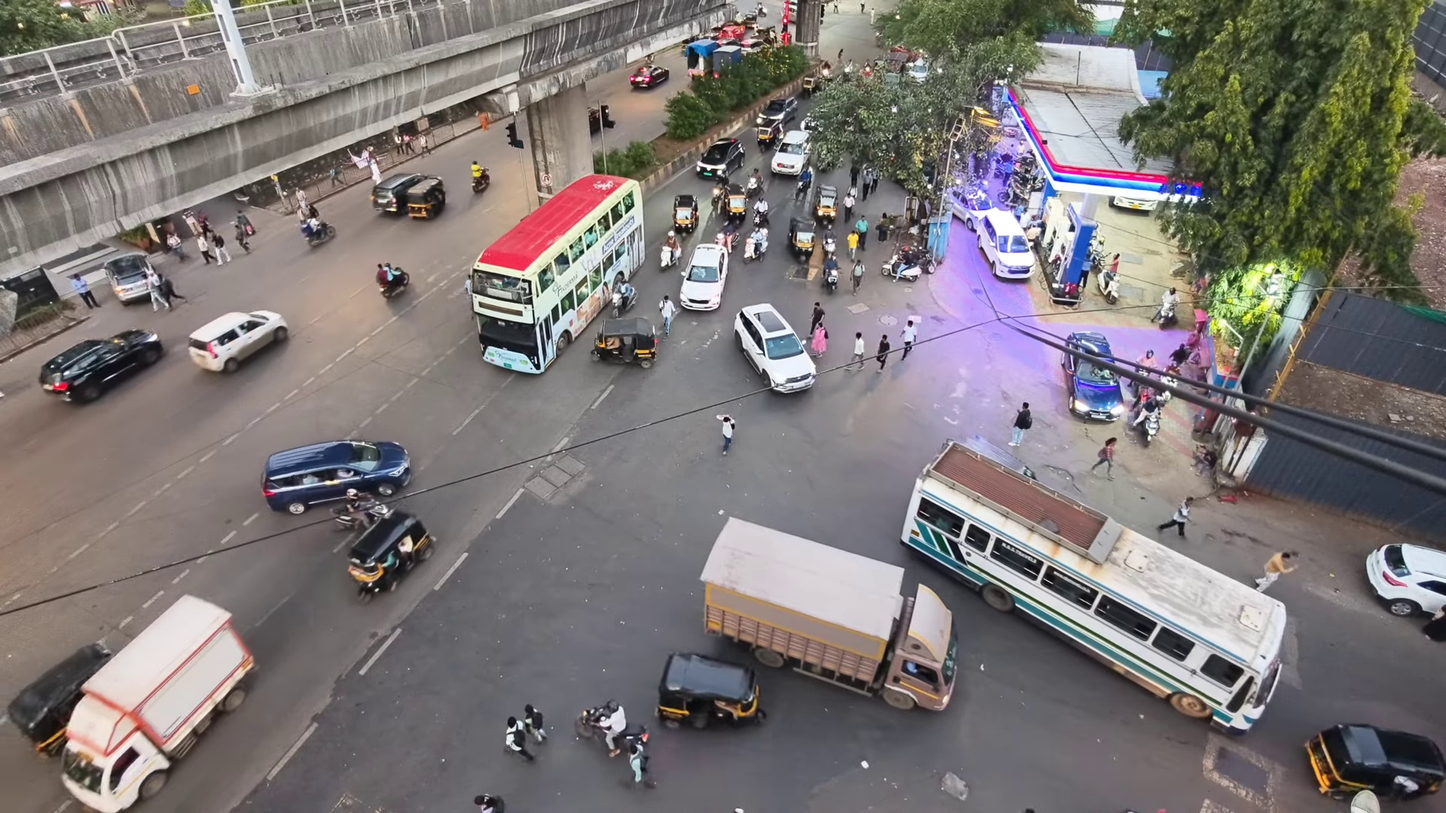driving: (901, 440, 1286, 732), (700, 517, 956, 710), (62, 595, 253, 812), (471, 175, 643, 373), (6, 643, 112, 755), (261, 440, 411, 514), (39, 330, 163, 401), (348, 510, 435, 601), (734, 304, 816, 392), (188, 310, 288, 373), (1366, 544, 1445, 617), (1061, 330, 1124, 421), (591, 317, 657, 368), (679, 244, 728, 309), (103, 252, 153, 303), (371, 172, 429, 213), (696, 138, 743, 178), (769, 130, 810, 175), (756, 96, 796, 124), (630, 64, 670, 88)
walking: (1255, 552, 1295, 592), (1158, 497, 1194, 537), (602, 702, 626, 756), (506, 717, 534, 762), (1091, 437, 1117, 480), (70, 273, 99, 309), (146, 269, 170, 312), (1008, 402, 1031, 446), (523, 704, 546, 742), (1422, 606, 1446, 642), (629, 739, 647, 784), (716, 414, 735, 455), (901, 318, 917, 361), (659, 294, 676, 334), (161, 276, 186, 302), (849, 332, 865, 370), (211, 233, 230, 264), (810, 323, 827, 357), (197, 231, 215, 263), (233, 210, 255, 236), (474, 793, 504, 812), (166, 233, 186, 260), (876, 334, 889, 372), (854, 214, 868, 248), (234, 224, 250, 253), (810, 302, 824, 334), (852, 260, 865, 294), (865, 169, 879, 199), (843, 190, 856, 221), (847, 232, 859, 259), (850, 165, 860, 187)
